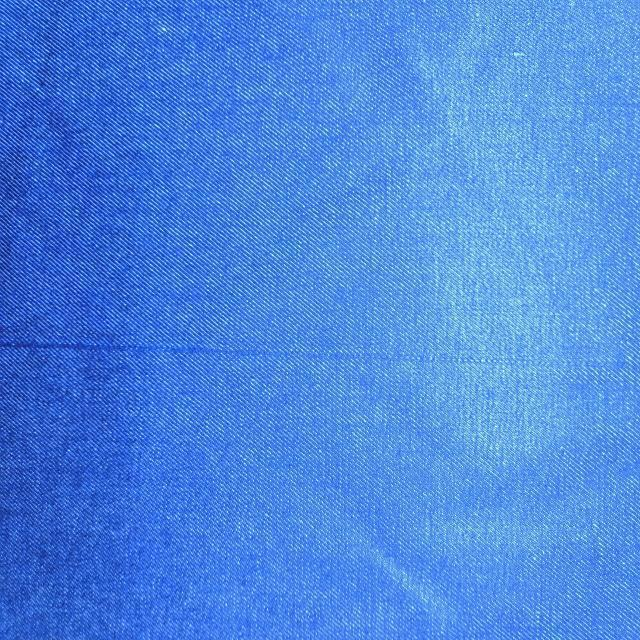Line: (0, 339, 632, 372)
